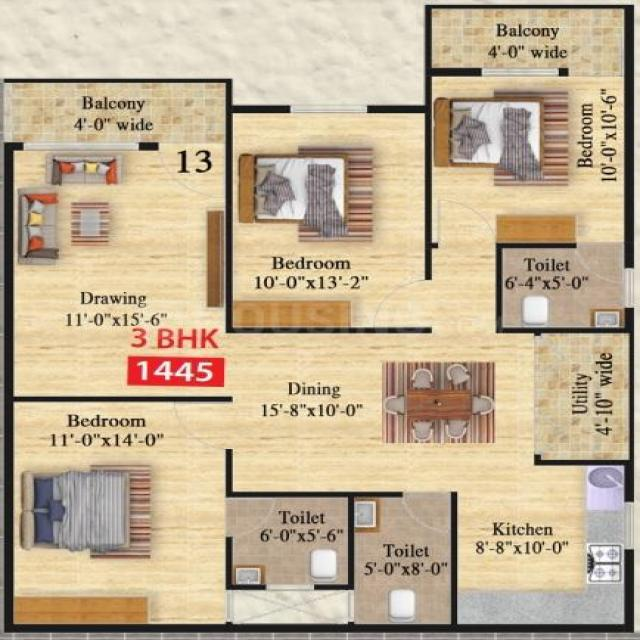Balcony-Sitout: (427, 8, 626, 74)
Bedroom: (234, 112, 424, 329)
Bedroom with Toilet: (11, 398, 350, 627), (427, 74, 631, 330)
Dining: (377, 360, 502, 451)
Enterance-Foyer: (150, 140, 225, 212)
Kitchen: (455, 468, 625, 624)
Living: (13, 145, 223, 396)
Toilet: (352, 494, 457, 633), (502, 246, 628, 330), (233, 501, 347, 583)
Utility: (534, 335, 626, 463)
